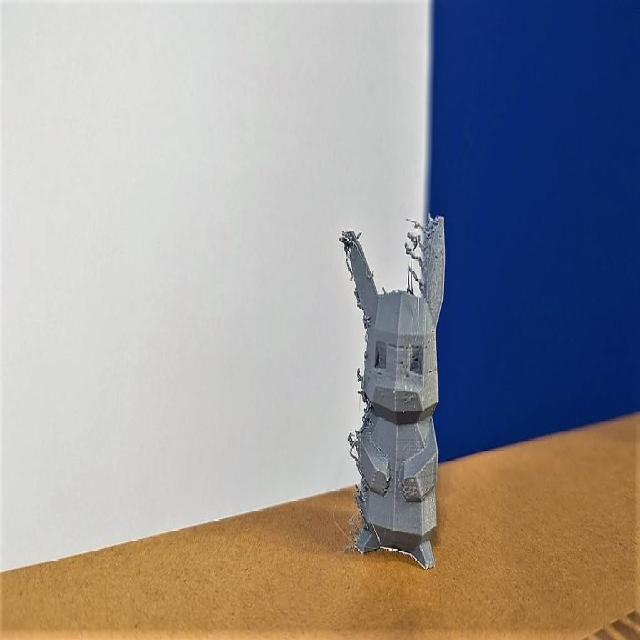Stringing: (399, 195, 427, 295), (350, 502, 380, 558), (346, 417, 372, 477), (338, 225, 362, 281), (356, 359, 374, 414)
